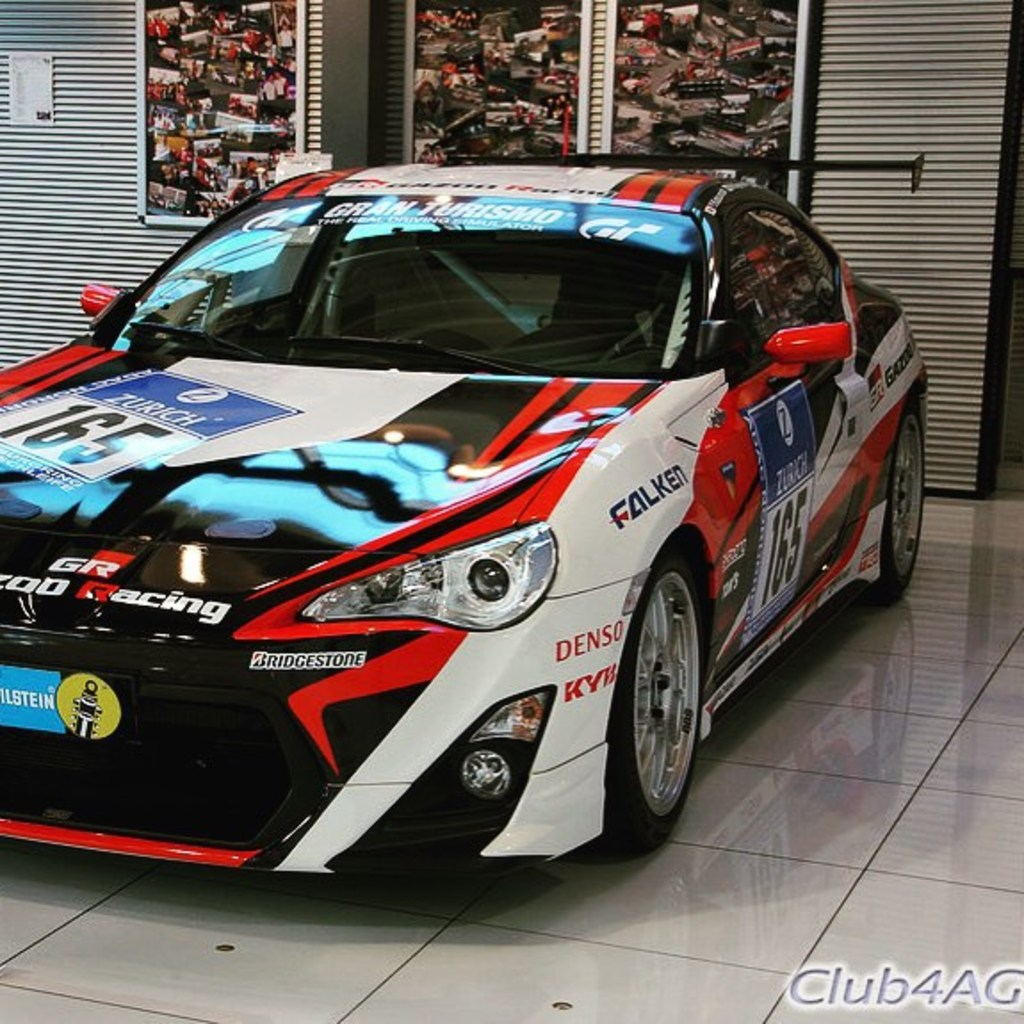Car: (0, 140, 936, 869)
